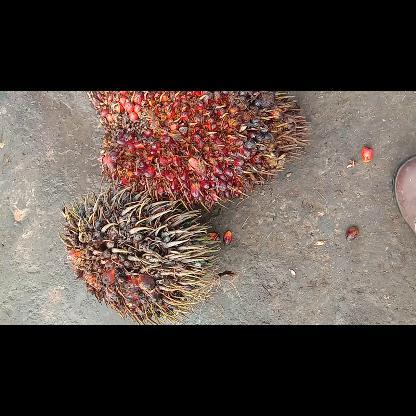TBS abnormal: (59, 187, 221, 323)
TBS masak: (86, 91, 306, 203)
